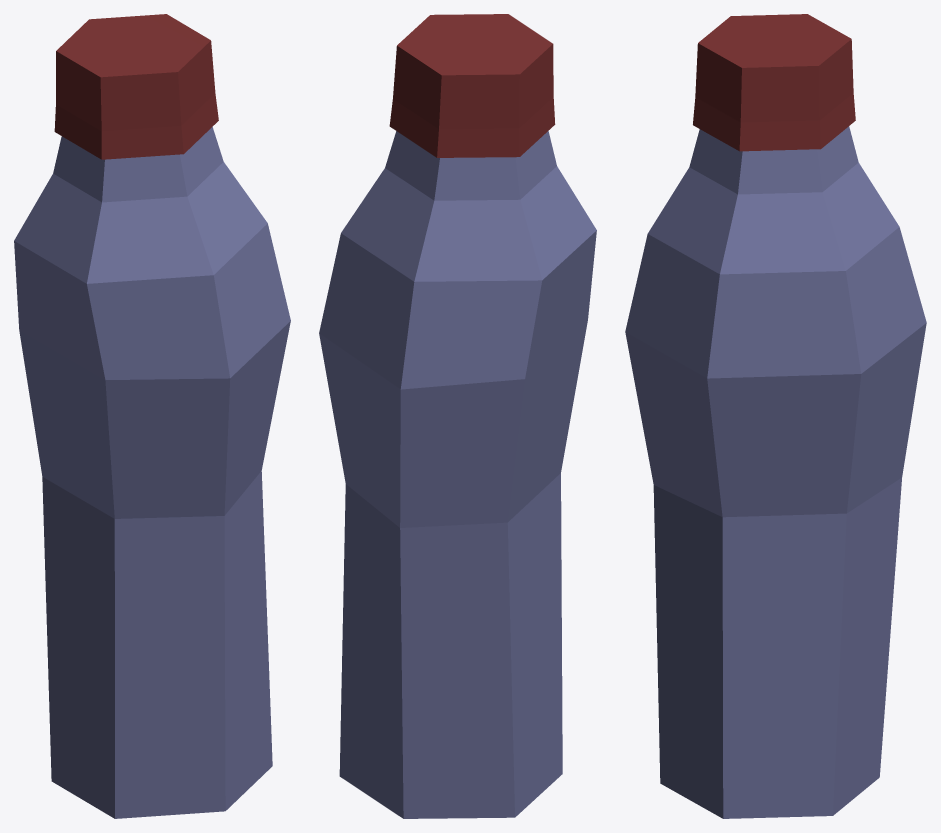
Rendered from Gym_Bottle.fbx.
The picture shows the model from 3 angles, left to right: view 1: azimuth 30°, elevation 25°; view 2: azimuth 150°, elevation 25°; view 3: azimuth 270°, elevation 25°; orthographic projection.
Parts seen in each view (by area): view 1: Gym_Bottle; view 2: Gym_Bottle; view 3: Gym_Bottle.
Boxes of the visible parts, x1,y1,x2,y2 form: Gym_Bottle: (14, 14, 290, 818); Gym_Bottle: (319, 14, 596, 818); Gym_Bottle: (625, 14, 926, 818).
Size of the model in its own units: 16.91 by 55.2 by 20.57.
